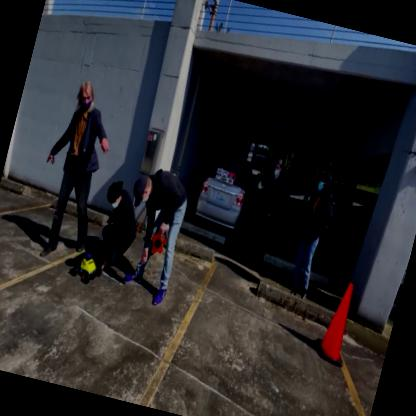cone: (310, 277, 362, 373)
mushr_car: (65, 246, 108, 290)
